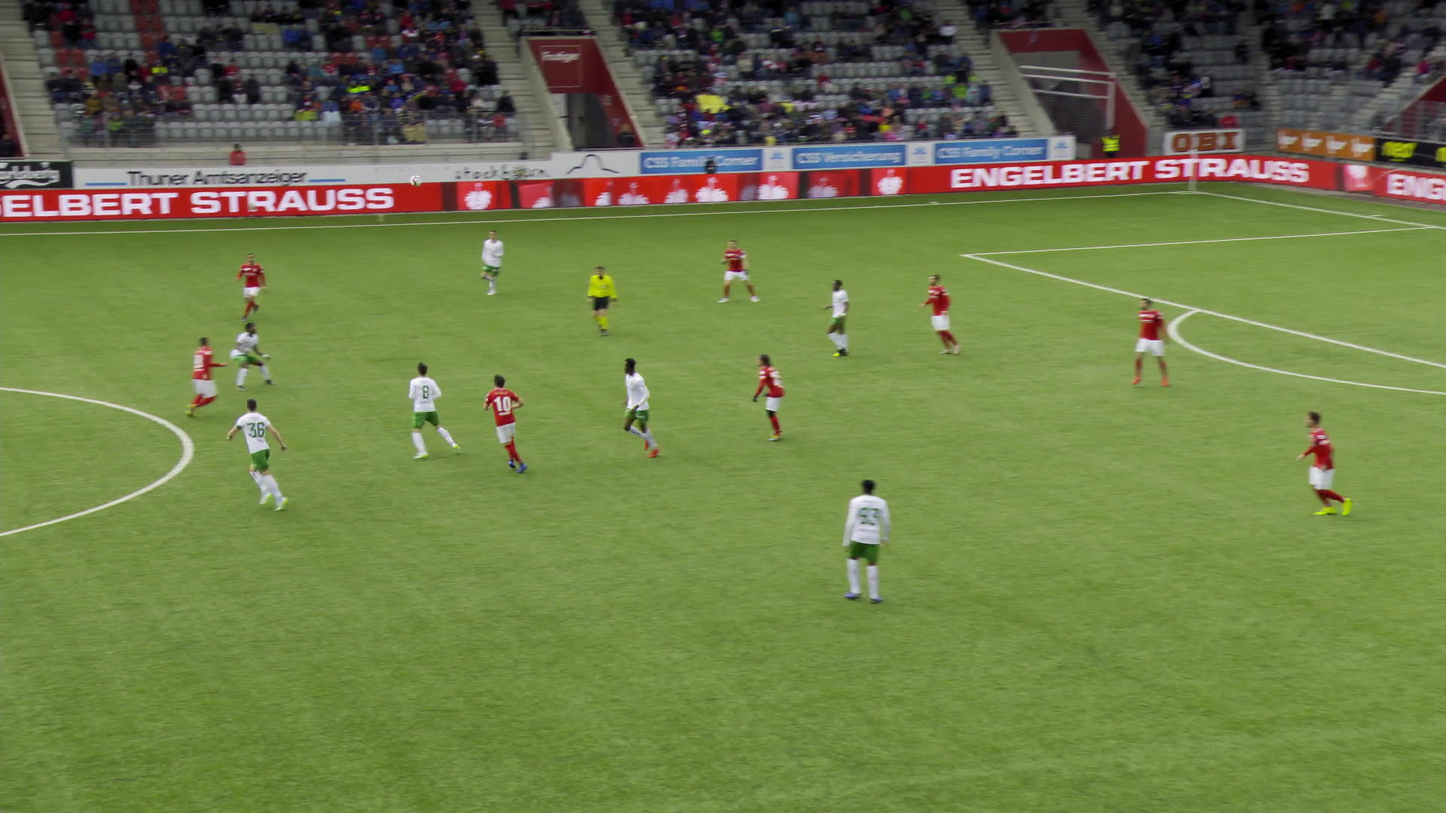ball: (408, 175, 425, 191)
player: (218, 398, 296, 513), (834, 476, 892, 604), (1287, 407, 1350, 519), (397, 361, 462, 462), (477, 373, 532, 474), (612, 355, 663, 462), (1126, 296, 1173, 388), (175, 336, 224, 420), (743, 350, 786, 443), (909, 273, 957, 356), (223, 320, 272, 394), (704, 237, 750, 307), (821, 278, 853, 358), (227, 252, 263, 323), (478, 228, 505, 297)
referee: (574, 266, 608, 340)
